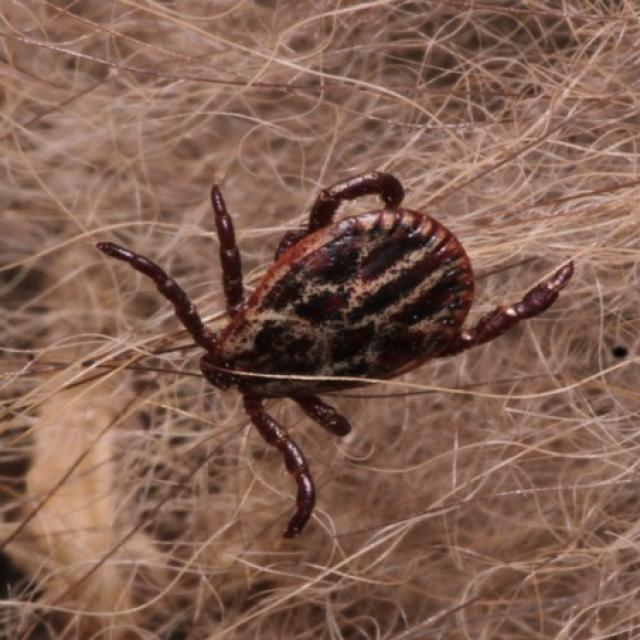Dermacentor Reticulatus-M: (95, 173, 573, 540)
